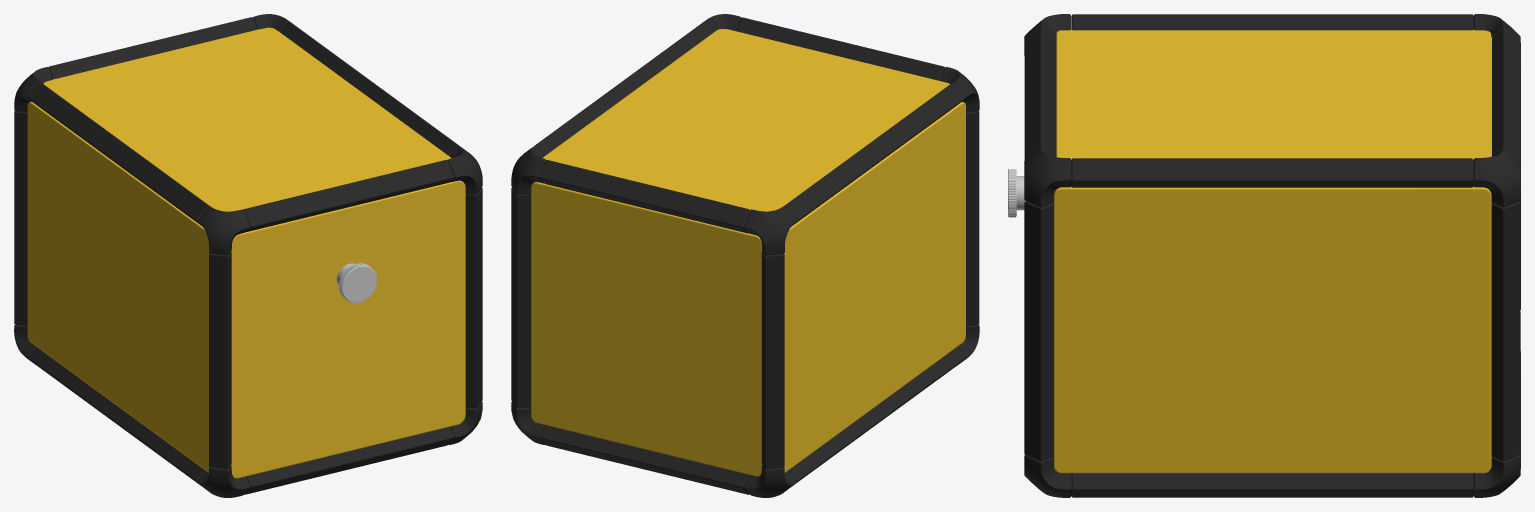
3 views of the same model, side by side, from view 1: azimuth 30°, elevation 25°; view 2: azimuth 150°, elevation 25°; view 3: azimuth 270°, elevation 25° (orthographic). The views are drawn at different scales.
Visible parts, largest first — view 1: 229x329x229; view 2: 229x329x229; view 3: 229x329x229.
Boxes of the visible parts, x1,y1,x2,y2 form: 229x329x229: (14, 14, 482, 497); 229x329x229: (511, 14, 979, 497); 229x329x229: (1008, 14, 1520, 497).
Bounding box in the file's own units: 0.3067 × 0.3067 × 0.4196.
